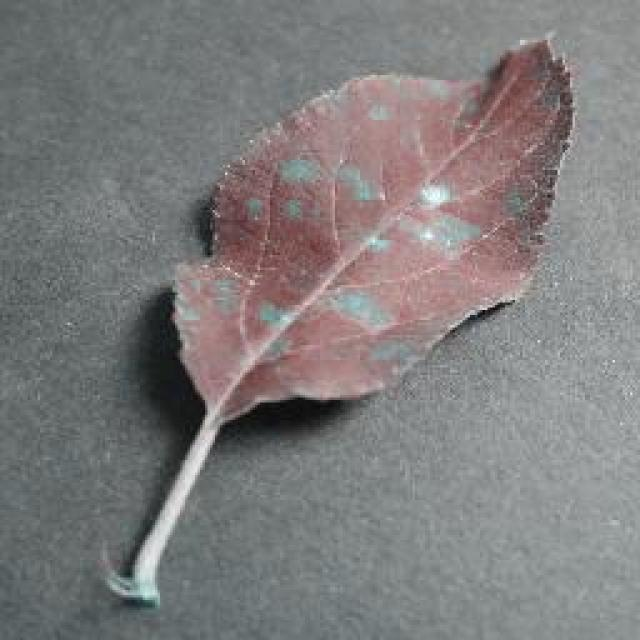apple rust disease: (98, 32, 578, 608)
